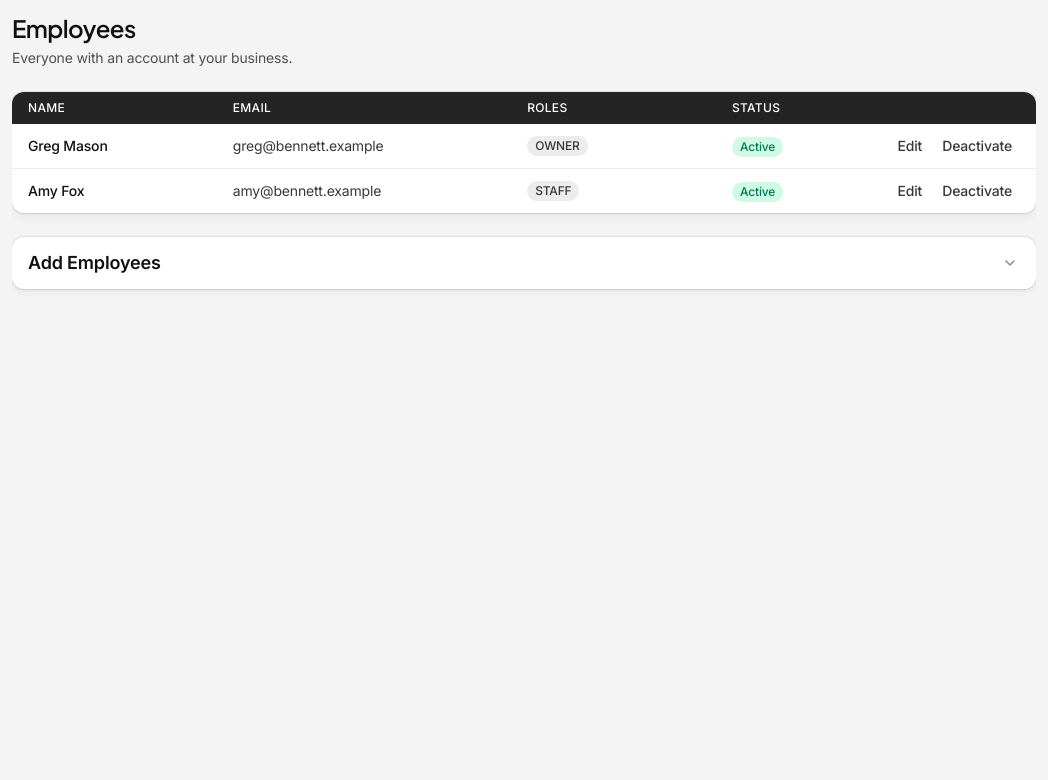
Test: EmployeesList › saves the edited details and roles
The width and height of the screenshot is (1048, 780).
Click the button "Edit" in the row of "Amy Fox" at (910, 191), box [890,177,930,205]
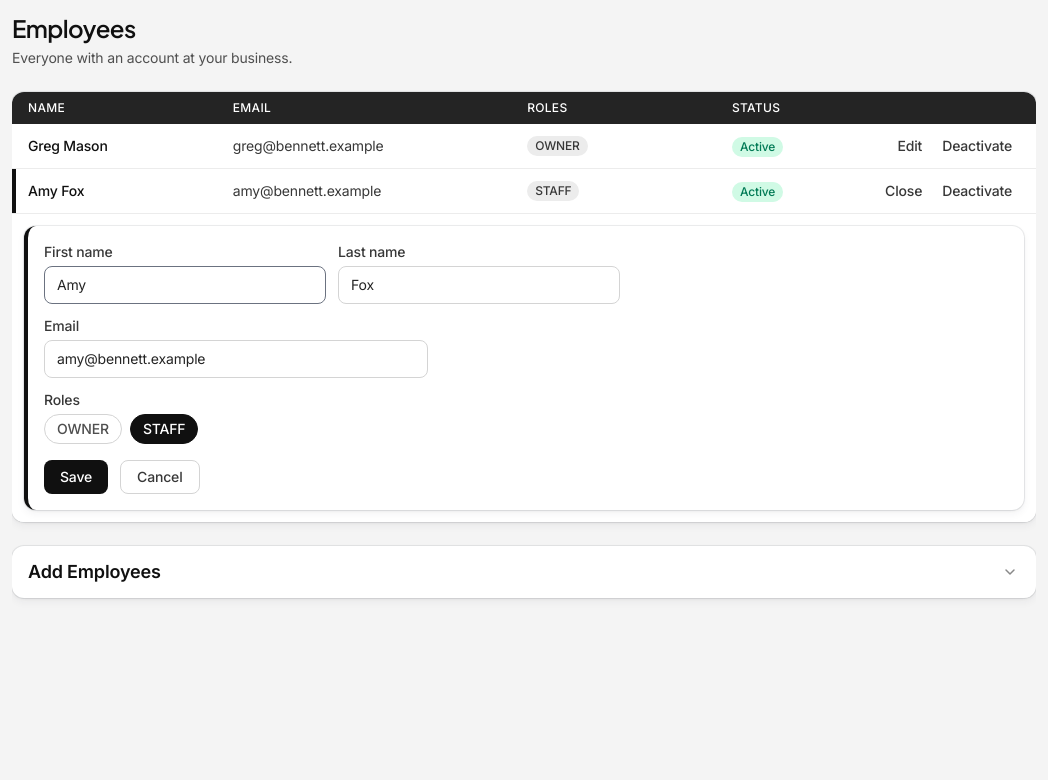
Click the button "OWNER" at (83, 429), box [44,414,122,444]
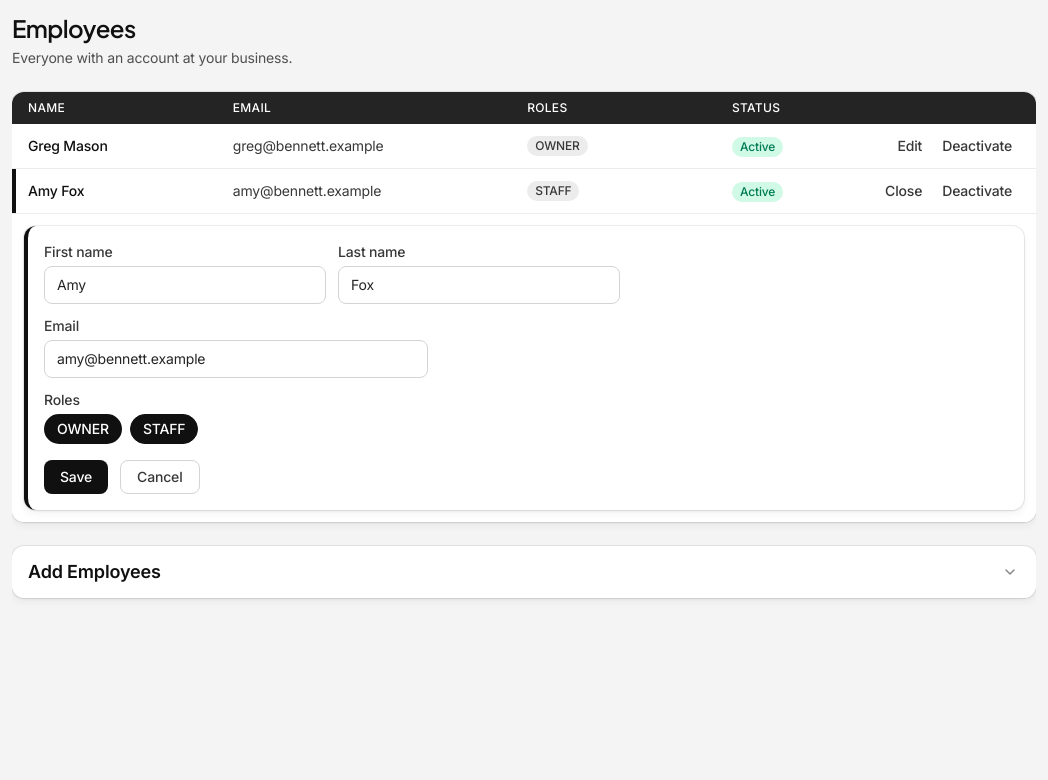
Click the button "Save" at (76, 477), box [44,460,108,494]
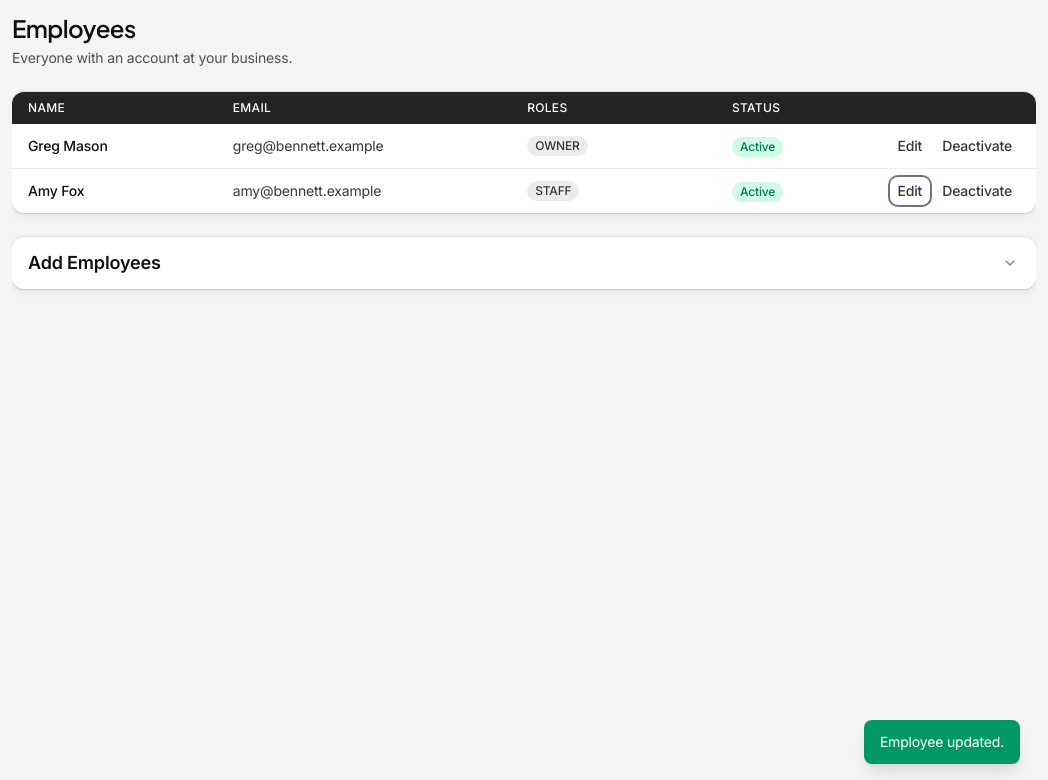
Check: the text "Employee updated." is shown, box [864,720,1020,764]
